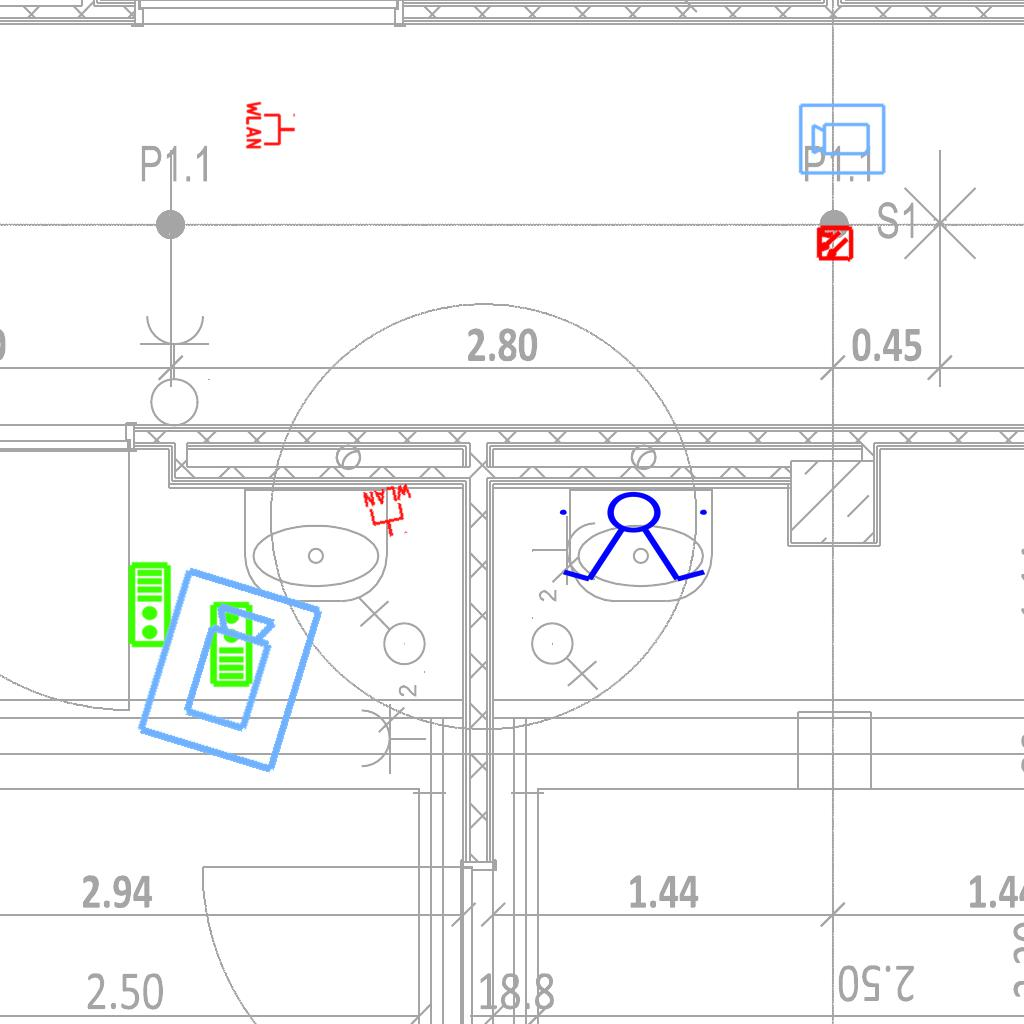Gegensprechanlage_mit_Video: (207, 600, 254, 688), (127, 561, 174, 649)
KFO_Kamera_mit_Festobjektiv: (130, 561, 332, 781), (797, 100, 888, 177)
OT_Multisensormelder_(Kombination_RMO_WMD): (805, 214, 863, 272)
Serienschalter: (551, 490, 719, 586)
WLAN: (360, 481, 422, 543), (245, 99, 297, 151)
